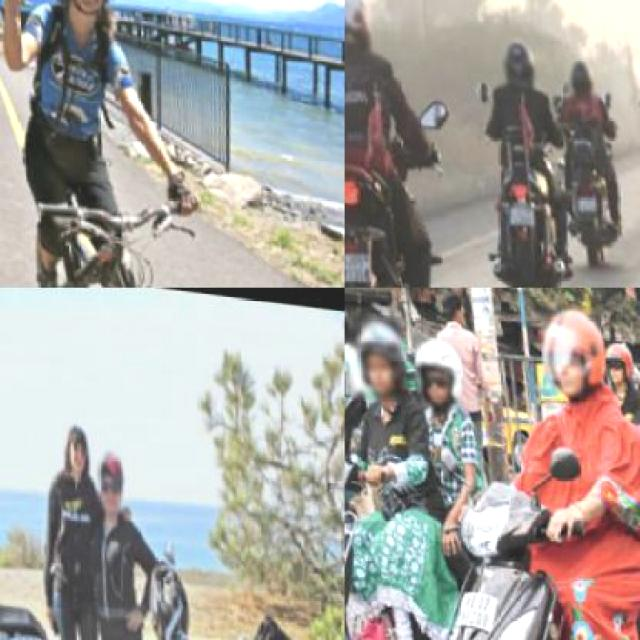With Helmet: (532, 296, 610, 401), (345, 309, 412, 406), (408, 334, 464, 412), (486, 21, 537, 96), (48, 0, 129, 31), (554, 41, 594, 102), (345, 0, 380, 62), (600, 338, 635, 387)
Without Helmet: (87, 443, 125, 511), (56, 410, 92, 481)
